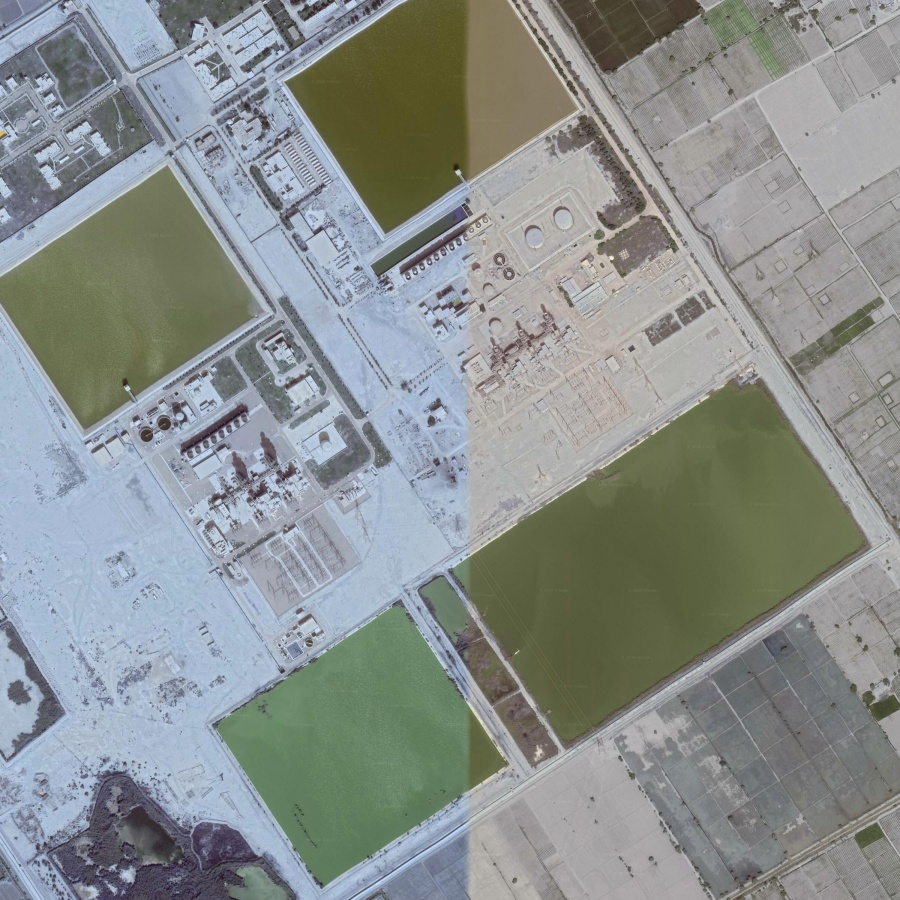PowerPlant: (136, 328, 378, 649), (418, 207, 613, 400)
